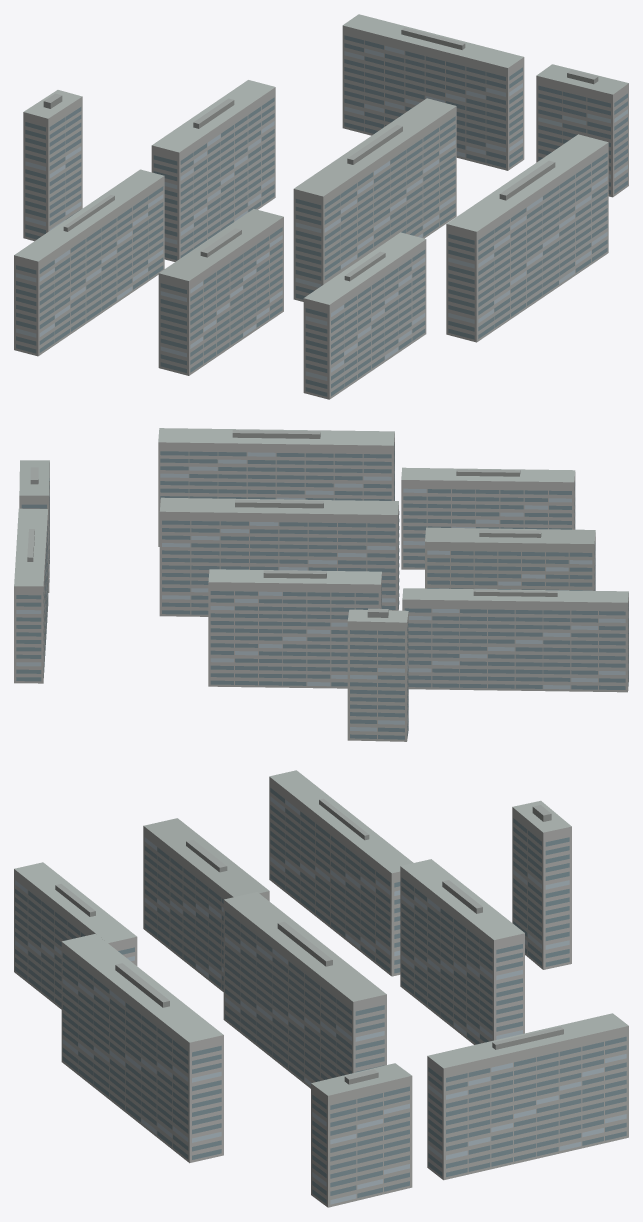
Rendered from apt-a15005303.glb.
3 renders of one model, top to bottom at view 1: azimuth 30°, elevation 25°; view 2: azimuth 150°, elevation 25°; view 3: azimuth 270°, elevation 25°, orthographic. The views are drawn at different scales.
Parts seen in each view (by area): view 1: apt-a15005303; view 2: apt-a15005303; view 3: apt-a15005303.
Boxes of the visible parts, <box> form: apt-a15005303: <box>14,14,628,399</box>; apt-a15005303: <box>14,428,628,741</box>; apt-a15005303: <box>14,770,628,1207</box>.
Bounding box in the file's own units: 254 × 51 × 198.
